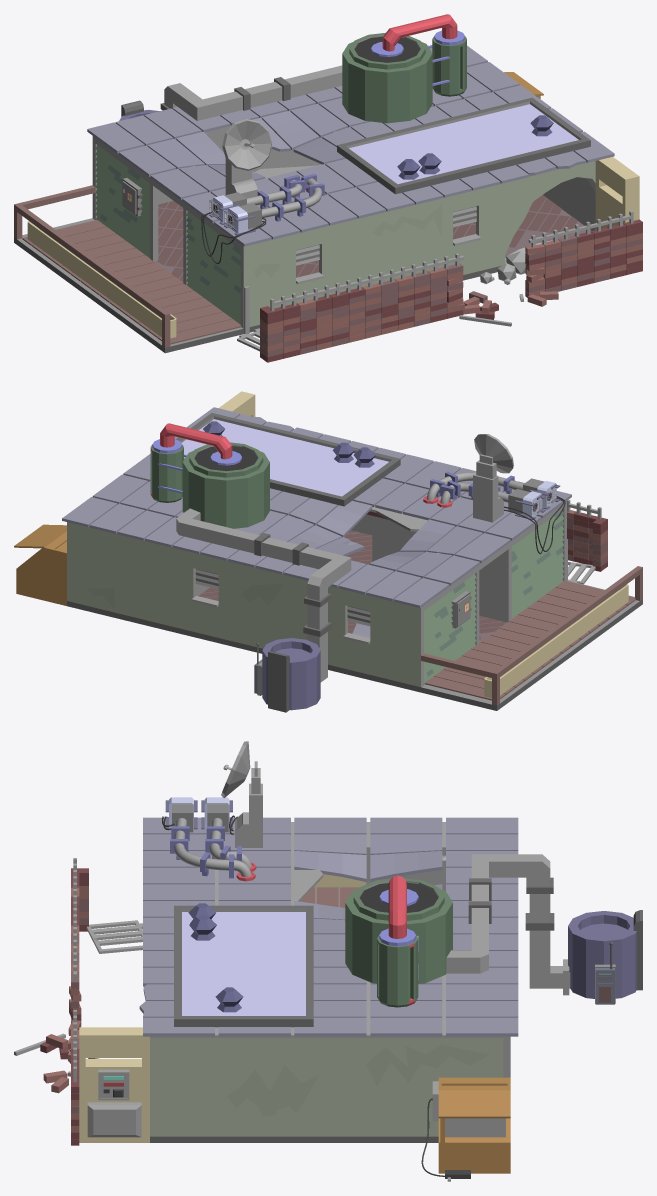
Rendered from House_4.fbx.
3 renders of one model, top to bottom at view 1: azimuth 30°, elevation 25°; view 2: azimuth 150°, elevation 25°; view 3: azimuth 270°, elevation 25°, orthographic. The views are drawn at different scales.
Visible parts, largest first — view 1: House_Main, House_Roof; view 2: House_Main, House_Roof; view 3: House_Roof, House_Main.
Boxes of the visible parts, <box> form: House_Main: <box>14,72,642,362</box>; House_Roof: <box>87,14,614,263</box>; House_Main: <box>14,391,642,712</box>; House_Roof: <box>62,407,571,607</box>; House_Roof: <box>139,741,529,1038</box>; House_Main: <box>14,850,642,1181</box>.
Bounding box in the file's own units: 19.48 × 6.78 × 17.43.
